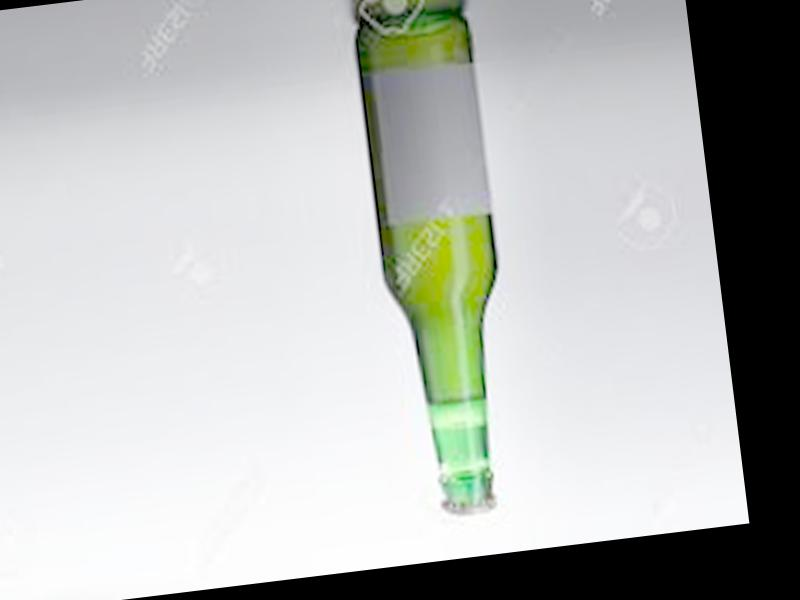Beer: (351, 7, 529, 521)
